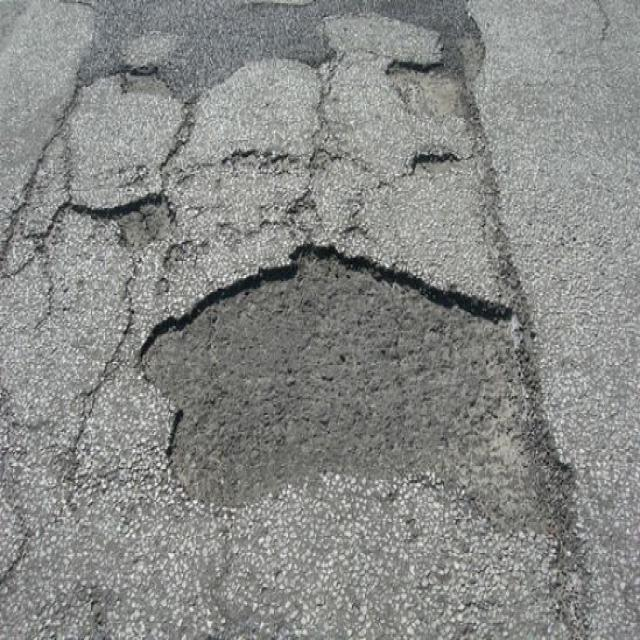Pothole: (134, 239, 578, 533), (81, 184, 180, 240)
